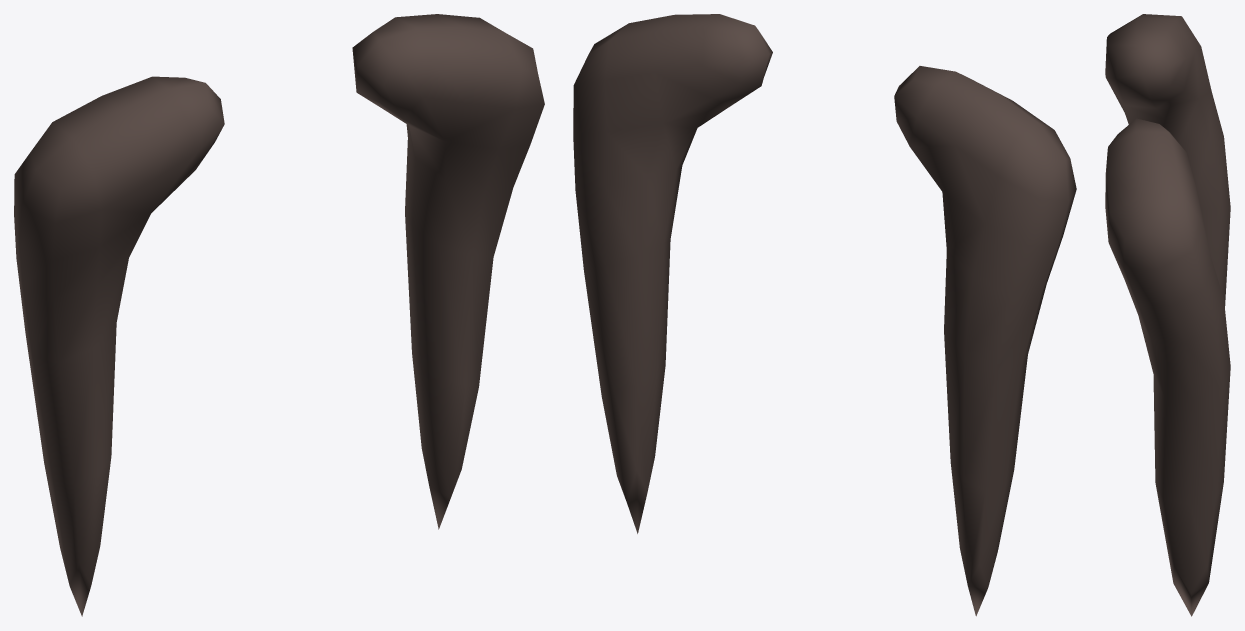
The model's file is Mustache_14.glb.
3 views of the same model, side by side, from view 1: azimuth 30°, elevation 25°; view 2: azimuth 150°, elevation 25°; view 3: azimuth 270°, elevation 25° (orthographic). The views are drawn at different scales.
Parts seen in each view (by area): view 1: Mustache_14; view 2: Mustache_14; view 3: Mustache_14.
Boxes of the visible parts, x1,y1,x2,y2 form: Mustache_14: (14,14,544,616); Mustache_14: (573,14,1076,616); Mustache_14: (1105,14,1230,616).
Size of the model in its own units: 0.1868 by 0.1864 by 0.0458.
Materials: 1 (1 with a texture image).
